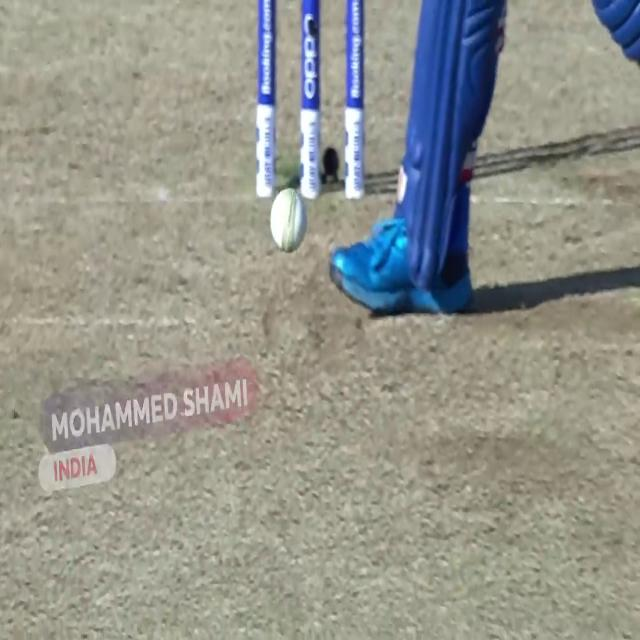ball: (270, 186, 308, 256)
